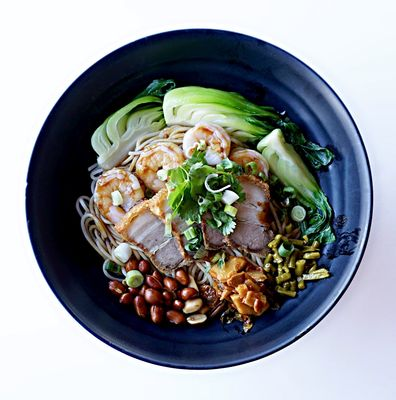curry: (162, 85, 283, 143)
sushi: (23, 27, 396, 381)
